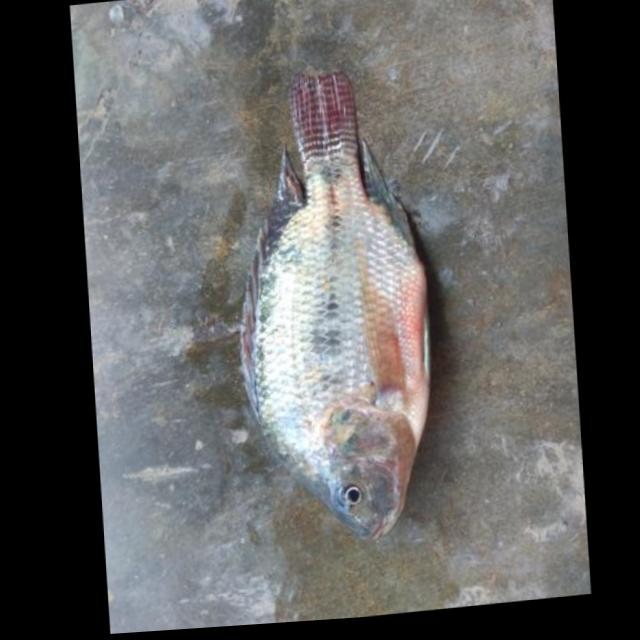Tilapia: (219, 60, 444, 555)
